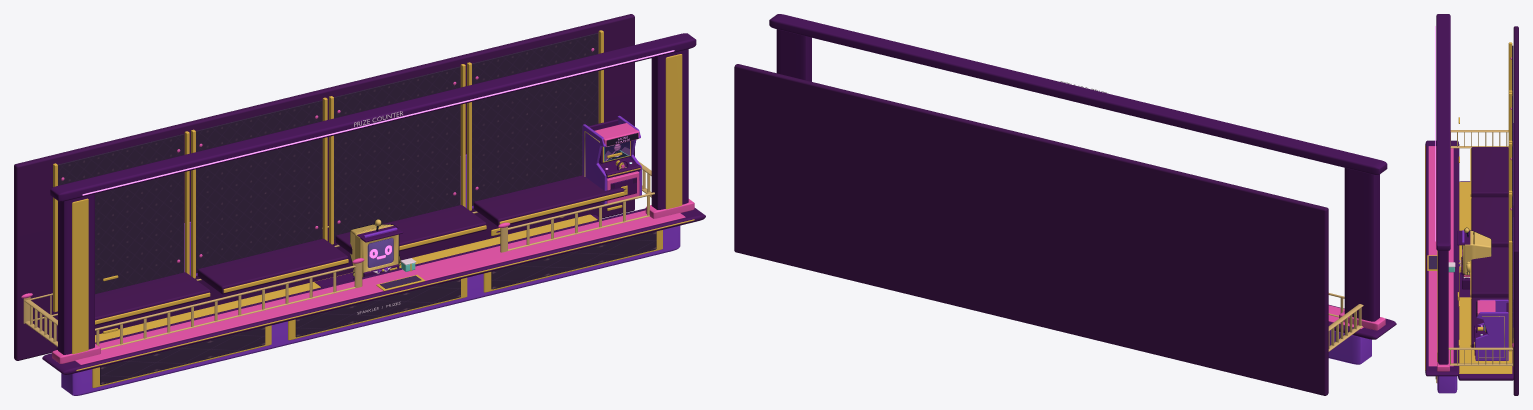
Rendered from prize-counter.glb.
3 views of the same model, side by side, from view 1: azimuth 30°, elevation 25°; view 2: azimuth 150°, elevation 25°; view 3: azimuth 270°, elevation 25° (orthographic). The views are drawn at different scales.
Visible parts, largest first — view 1: rear_wall, bay_lining_1, bay_lining_2, bay_lining_3, bay_lining_0, service_window_lintel, ledge_rose_inset, customer_ledge, service_base, bay_pedestal_1, bay_pedestal_3, service_window_pillar.001 (+26 smaller); view 2: rear_wall, service_window_lintel, service_window_pillar, service_window_pillar.001, service_base; view 3: service_window_lintel, ledge_rose_inset, customer_ledge, rear_wall, plinth_gold_line, bay_pedestal_0, bay_pedestal_2, bay_pedestal_1, arcade_side.001, service_window_pillar.001, EMI_case, bay_pilaster.007 (+25 smaller).
Boxes of the visible parts, x1,y1,x2,y2 form: rear_wall: (14,14,634,360); bay_lining_1: (196,100,322,273); bay_lining_2: (334,66,460,239); bay_lining_3: (472,33,598,205); bay_lining_0: (58,134,183,293); service_window_lintel: (50,33,696,201); ledge_rose_inset: (75,210,685,364); customer_ledge: (42,208,705,374); service_base: (61,225,680,395); bay_pedestal_1: (197,238,348,294); bay_pedestal_3: (473,175,624,226); service_window_pillar.001: (651,49,688,209); rear_wall: (734,64,1328,395); service_window_lintel: (769,14,1387,174); service_window_pillar: (1344,168,1379,321); service_window_pillar.001: (776,29,811,81); service_base: (1328,330,1371,364); service_window_lintel: (1436,14,1450,250); ledge_rose_inset: (1428,146,1453,366); customer_ledge: (1425,140,1459,376); rear_wall: (1513,26,1518,395); plinth_gold_line: (1459,182,1512,373); bay_pedestal_0: (1471,147,1508,197); bay_pedestal_2: (1471,247,1508,297); bay_pedestal_1: (1471,197,1508,247); arcade_side.001: (1475,312,1508,360); service_window_pillar.001: (1438,250,1448,364); EMI_case: (1464,230,1491,275); bay_pilaster.007: (1508,241,1512,351).
Size of what is drawn, in the model's own units: 14.45 by 4.47 by 2.45.
25 materials, 3 textured.
